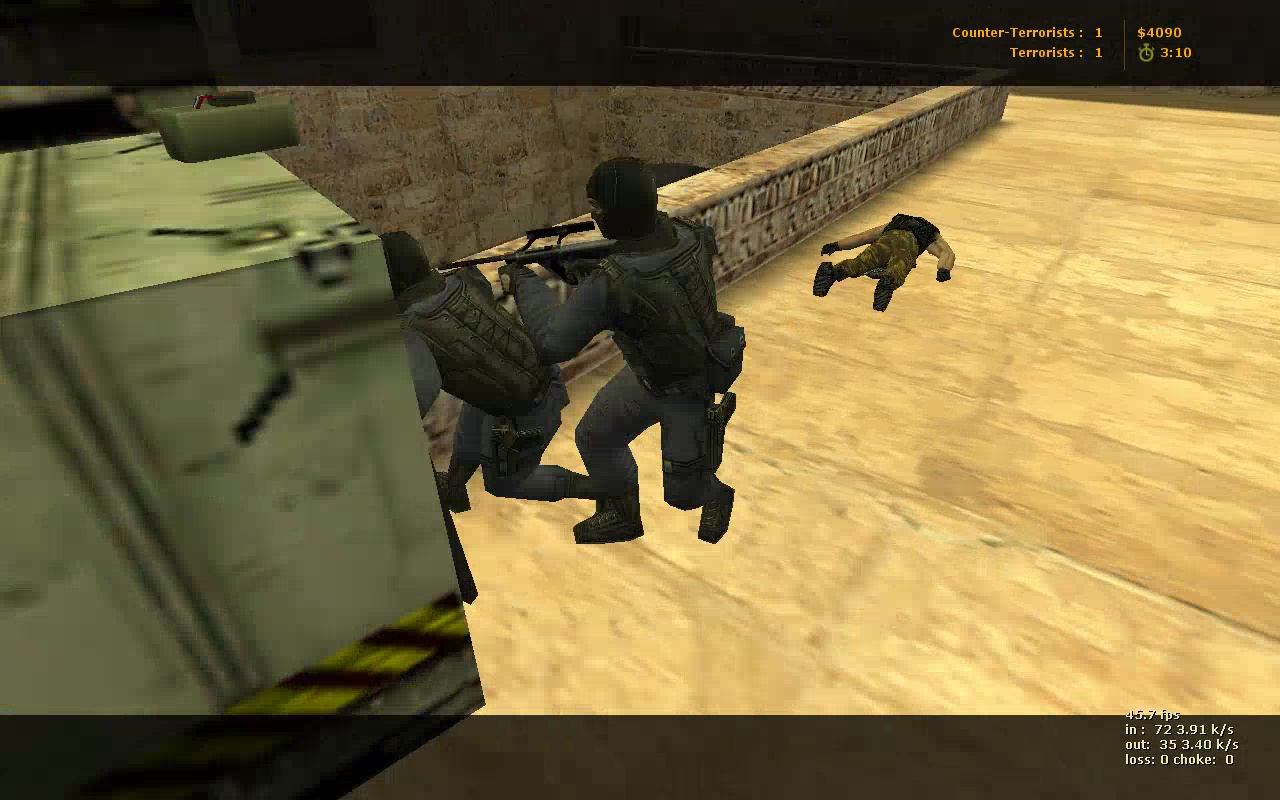ct: (493, 155, 736, 549), (348, 228, 610, 522)
